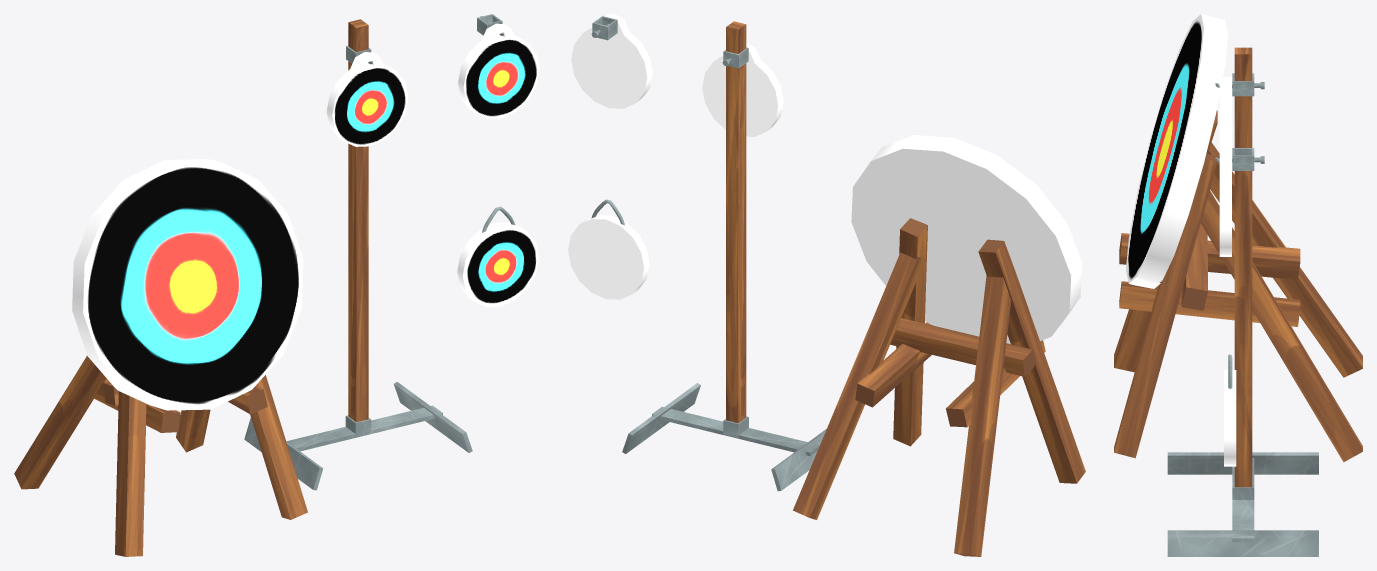
Rendered from bow_target.glb.
The picture shows the model from 3 angles, left to right: view 1: azimuth 30°, elevation 25°; view 2: azimuth 150°, elevation 25°; view 3: azimuth 270°, elevation 25°; orthographic projection. The views are drawn at different scales.
Visible parts, largest first — view 1: polySurface52, polySurface46, polySurface55, polySurface41, pCylinder29; view 2: polySurface52, polySurface46, polySurface55, pCylinder29, polySurface41; view 3: polySurface52, polySurface46, polySurface55, polySurface41, pCylinder29.
Boxes of the visible parts, x1,y1,x2,y2 form: polySurface52: [14, 159, 307, 556]; polySurface46: [244, 19, 472, 490]; polySurface55: [458, 14, 539, 118]; polySurface41: [326, 45, 408, 146]; pCylinder29: [457, 206, 538, 306]; polySurface52: [793, 135, 1085, 556]; polySurface46: [622, 21, 826, 491]; polySurface55: [571, 14, 652, 108]; pCylinder29: [568, 199, 649, 299]; polySurface41: [702, 42, 783, 136]; polySurface52: [1114, 14, 1362, 462]; polySurface46: [1167, 47, 1318, 556]; polySurface55: [1215, 148, 1264, 256]; polySurface41: [1215, 73, 1264, 151]; pCylinder29: [1224, 354, 1236, 466].
Bounding box in the file's own units: 259 × 221 × 105.
1 material, 1 textured.
